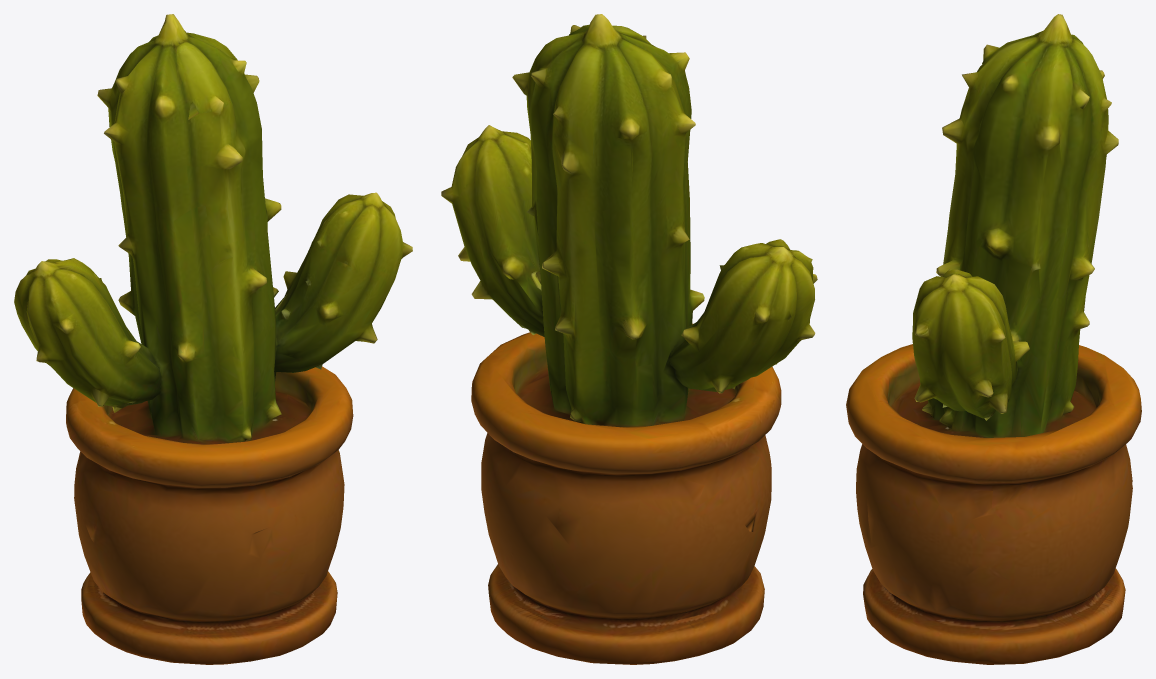
File: maceta_cactus.glb
The picture shows the model from 3 angles, left to right: view 1: azimuth 30°, elevation 25°; view 2: azimuth 150°, elevation 25°; view 3: azimuth 270°, elevation 25°; orthographic projection. The views are drawn at different scales.
Parts seen in each view (by area): view 1: maceta_cactus; view 2: maceta_cactus; view 3: maceta_cactus.
Part boxes in pixels (x1,y1,x2,y2): maceta_cactus: [14, 14, 412, 664]; maceta_cactus: [441, 14, 817, 664]; maceta_cactus: [846, 14, 1141, 664].
Size of what is drawn, in the model's own units: 0.5699 by 0.9003 by 0.4063.
1 material, 1 textured.
